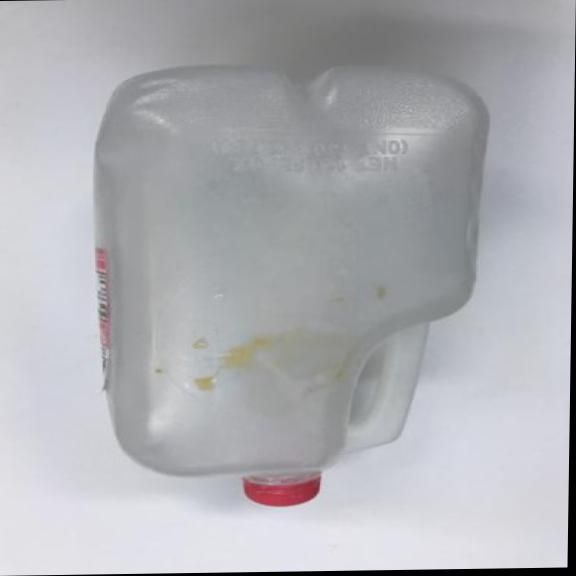Plastik: (87, 54, 494, 514)
